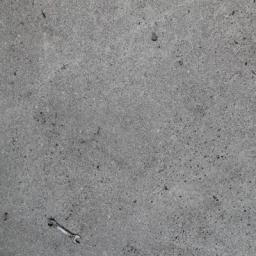FOD: (44, 214, 86, 248)
